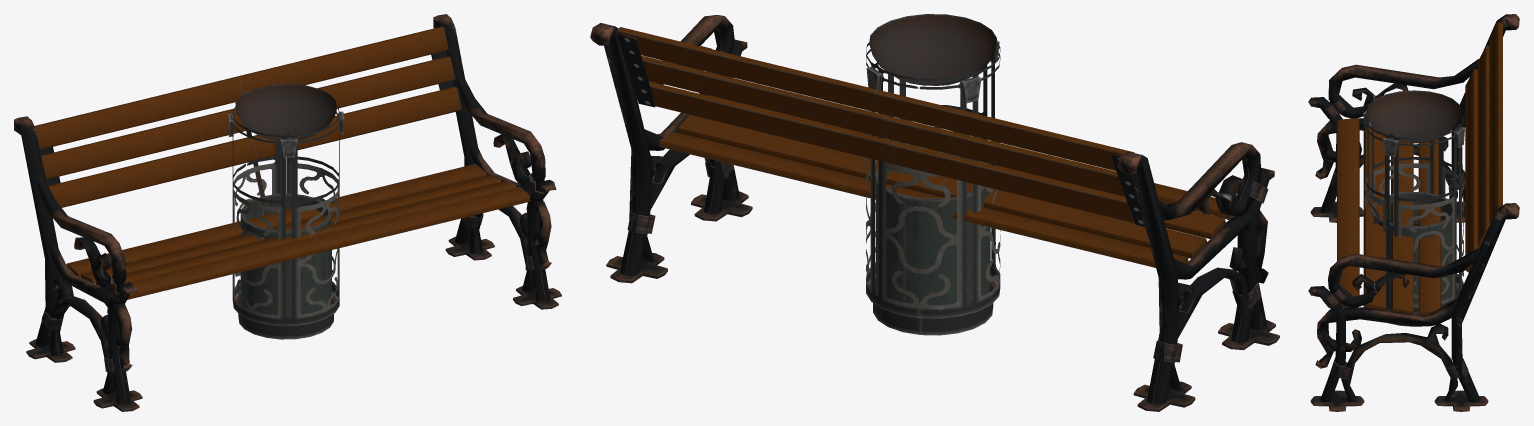
Rendered from bench.glb.
3 views of the same model, side by side, from view 1: azimuth 30°, elevation 25°; view 2: azimuth 150°, elevation 25°; view 3: azimuth 270°, elevation 25° (orthographic). The views are drawn at different scales.
Parts seen in each view (by area): view 1: bench, bin; view 2: bench, bin; view 3: bench, bin.
Part boxes in pixels (x1=…): bench: x1=14, y1=14, x2=561, y2=411; bin: x1=228, y1=84, x2=344, y2=339; bench: x1=590, y1=15, x2=1279, y2=411; bin: x1=866, y1=14, x2=1000, y2=335; bench: x1=1308, y1=14, x2=1519, y2=411; bin: x1=1363, y1=90, x2=1464, y2=326.
Bounding box in the file's own units: 1.8 × 0.7951 × 0.7707.
2 materials, 2 textured.
